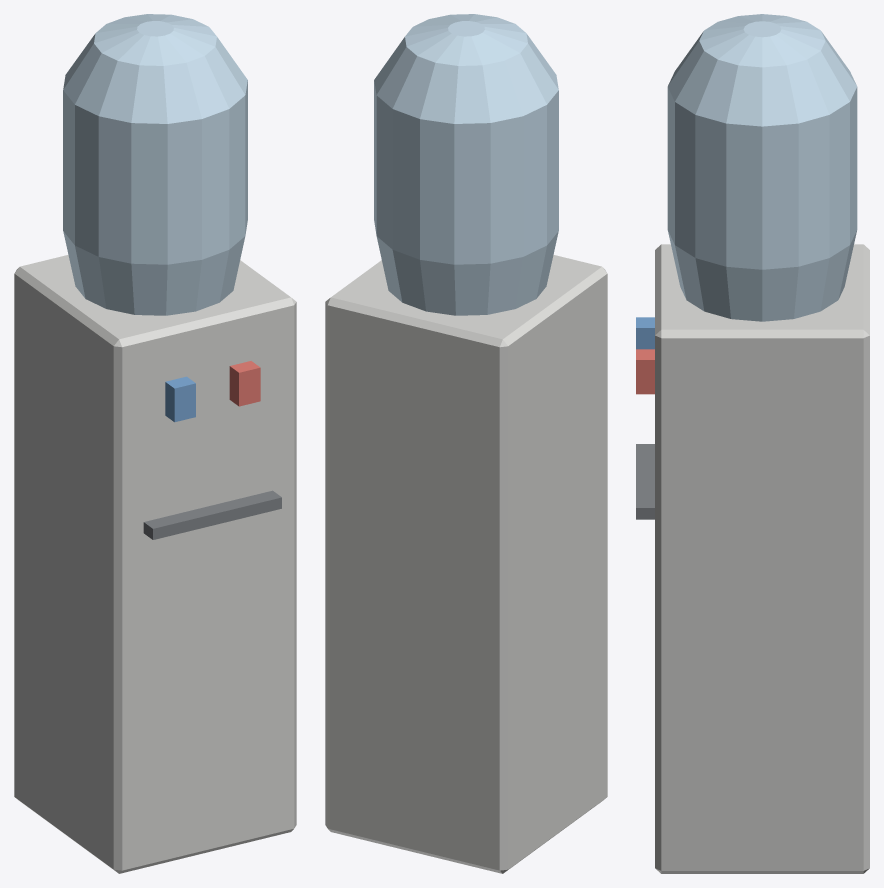
The model's file is water_cooler.glb.
The picture shows the model from 3 angles, left to right: view 1: azimuth 30°, elevation 25°; view 2: azimuth 150°, elevation 25°; view 3: azimuth 270°, elevation 25°; orthographic projection.
Parts seen in each view (by area): view 1: water_cooler_paint_w, water_cooler_water, water_cooler_steel_d, water_cooler_paint_r, water_cooler_paint_b; view 2: water_cooler_paint_w, water_cooler_water; view 3: water_cooler_paint_w, water_cooler_water, water_cooler_steel_d, water_cooler_paint_r, water_cooler_paint_b.
Part boxes in pixels (x1,y1,x2,y2): water_cooler_paint_w: (14,255,296,873); water_cooler_water: (63,14,247,315); water_cooler_steel_d: (143,490,281,539); water_cooler_paint_r: (229,361,260,406); water_cooler_paint_b: (165,376,195,422); water_cooler_paint_w: (325,255,607,873); water_cooler_water: (374,14,558,315); water_cooler_paint_w: (655,244,869,873); water_cooler_water: (667,14,857,321); water_cooler_steel_d: (636,444,654,519); water_cooler_paint_r: (636,349,654,394); water_cooler_paint_b: (636,317,654,349).
Bounding box in the file's own units: 0.34 × 1.4 × 0.37.
